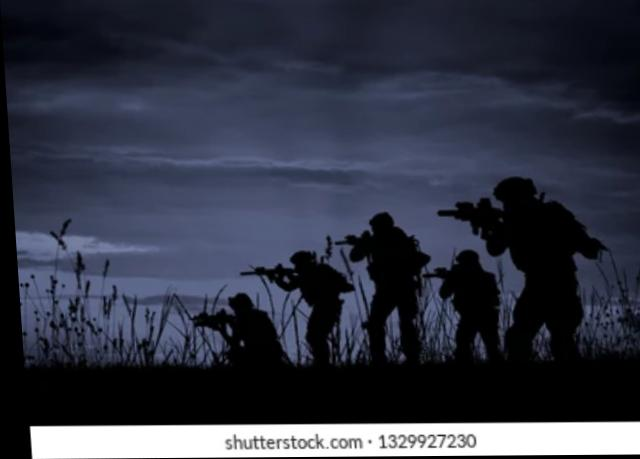other: (485, 174, 599, 363), (342, 214, 436, 351), (427, 248, 512, 372), (267, 247, 356, 361), (193, 294, 287, 378)
